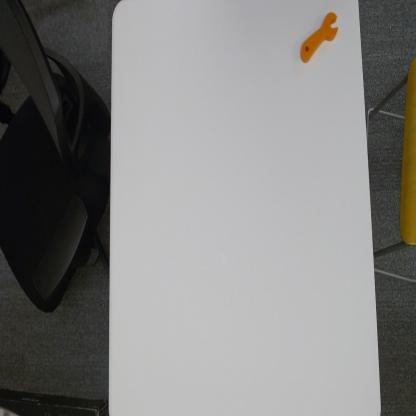Screwdriver: (300, 7, 341, 65)
